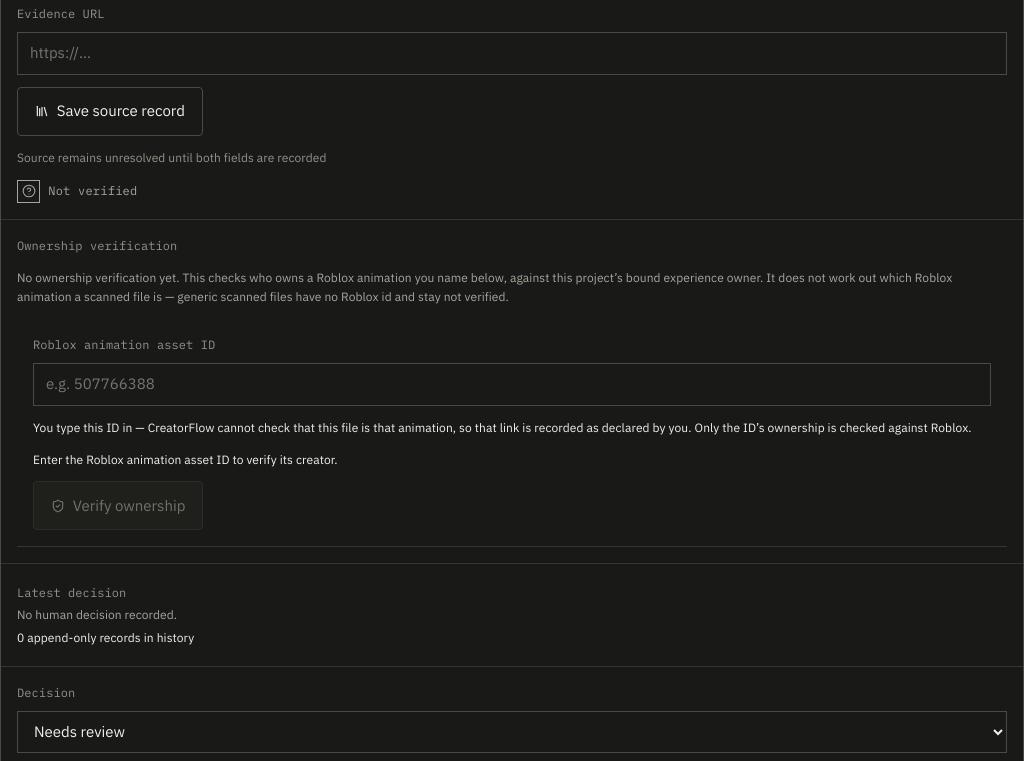
Scenario: LocalEvidenceView ownership verification › re-enables the verify action once the desktop reports a key added after this page loaded
(page scrolled)
Type "507766388" into the field labelled "Roblox animation asset ID". click: (512, 384)
box: [33,363,991,406]
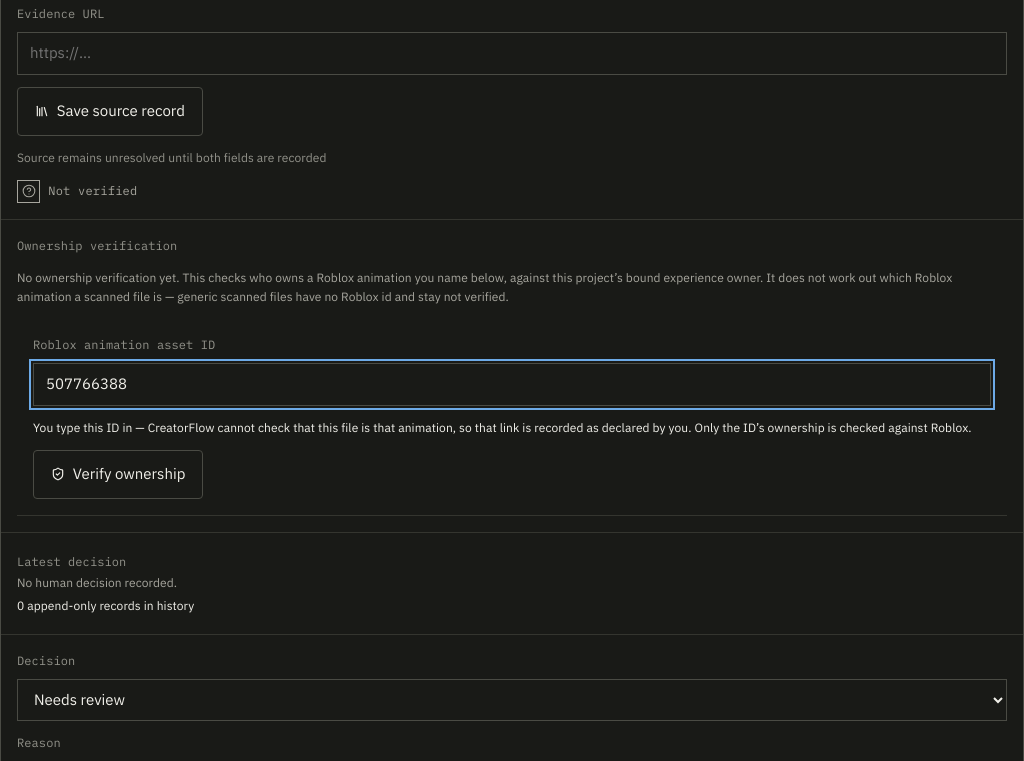
Result: the button "Verify ownership" is enabled at [33,450,203,499]
